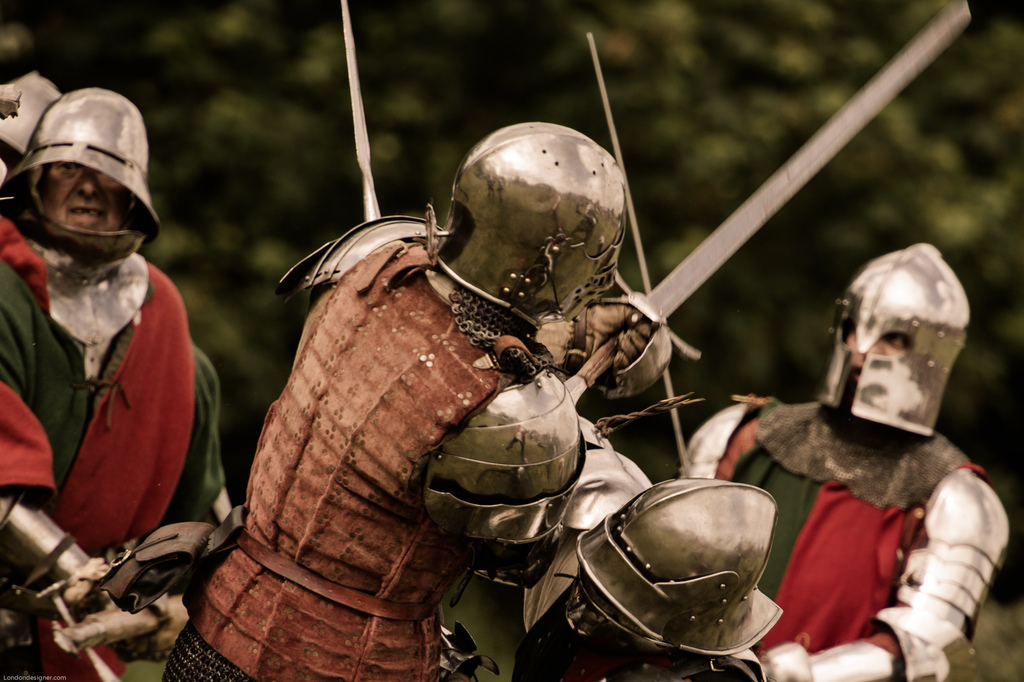Person: (0, 69, 1009, 681)
